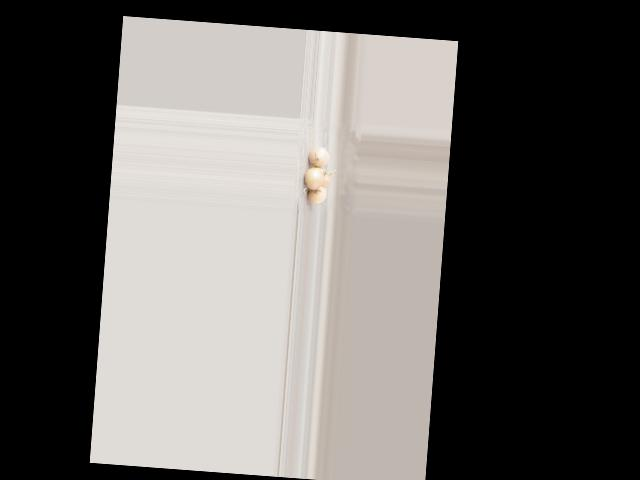onion: (315, 170, 331, 190)
